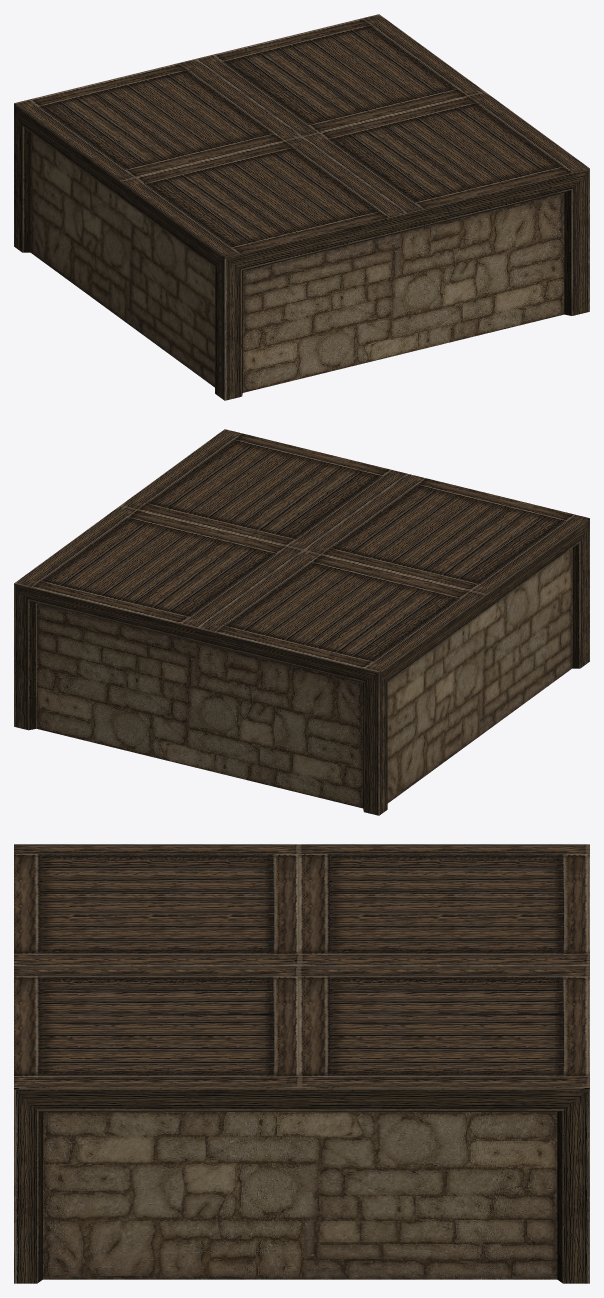
The model's file is House_8X8_03b.fbx.
3 views of the same model, one above another, from view 1: azimuth 30°, elevation 25°; view 2: azimuth 150°, elevation 25°; view 3: azimuth 270°, elevation 25° (orthographic). The views are drawn at different scales.
Parts seen in each view (by area): view 1: House_8X8_03b; view 2: House_8X8_03b; view 3: House_8X8_03b.
Boxes of the visible parts, x1=… form: House_8X8_03b: x1=14, y1=14, x2=589, y2=400; House_8X8_03b: x1=14, y1=429, x2=589, y2=815; House_8X8_03b: x1=14, y1=844, x2=589, y2=1283.
Bounding box in the file's own units: 8 × 3 × 8.
